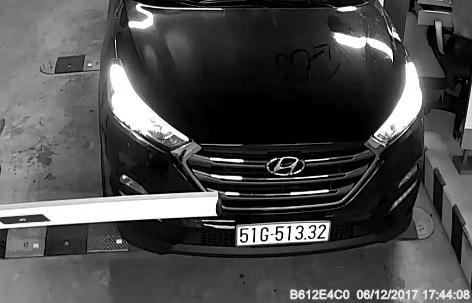License-plate: (229, 213, 338, 257)
